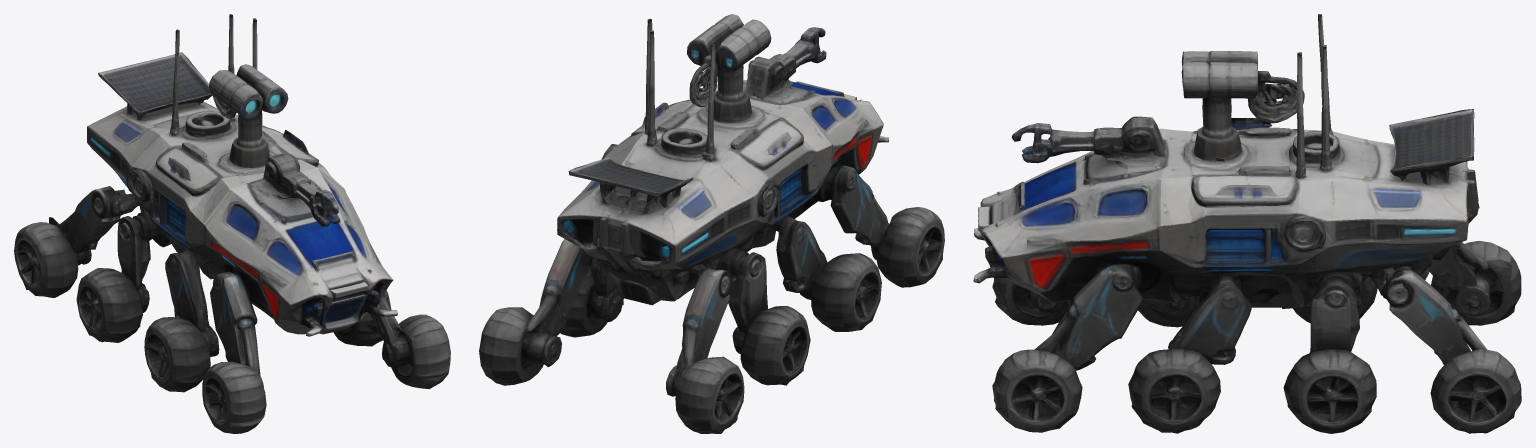
3 renders of one model, left to right at view 1: azimuth 30°, elevation 25°; view 2: azimuth 150°, elevation 25°; view 3: azimuth 270°, elevation 25°, orthographic. The views are drawn at different scales.
Parts seen in each view (by area): view 1: world; view 2: world; view 3: world.
Part boxes in pixels (x1,y1,x2,y2): world: (14, 14, 450, 433); world: (479, 14, 944, 433); world: (973, 14, 1521, 433).
Size of the model in its own units: 0.5468 by 0.7025 by 1.
Materials: 1 (1 with a texture image).
